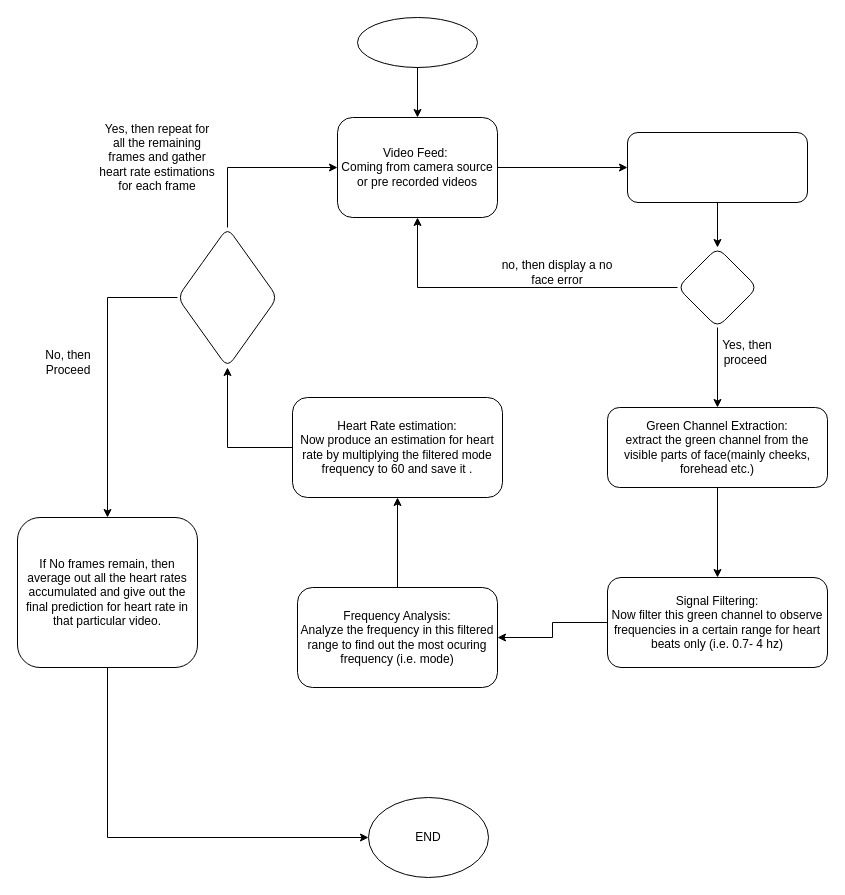
This 845x895 diagram has some shape labels left out. The box of each missing label's shape, as (x1, y1, x2, y2) in pixels:
Face Detection: deployed haar cascades to identify face in the video feed: (626, 132, 808, 202)
Face Found: (676, 246, 758, 328)
If frames remaining in video: (176, 226, 278, 368)
Start: (356, 16, 478, 68)
